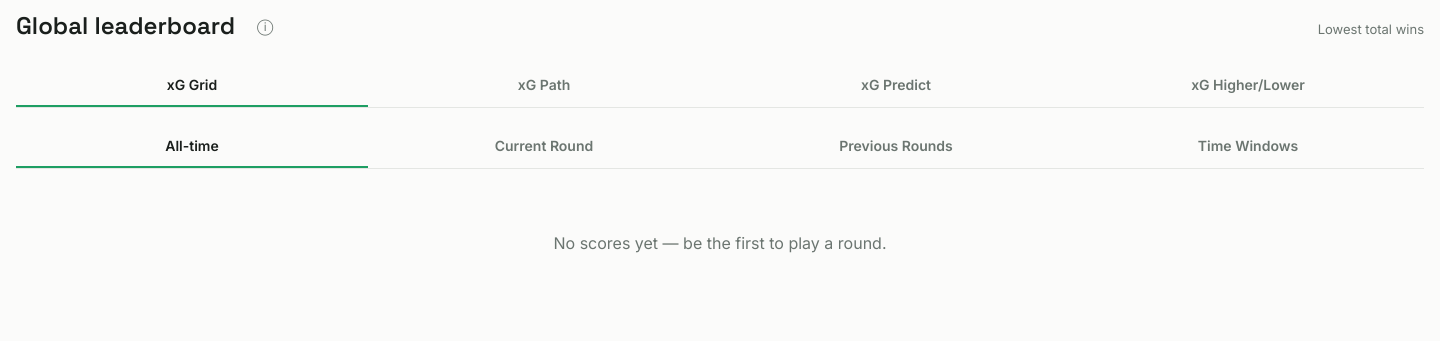
Test case: LiveLeaderboard › REQ407: "Load more" on the live scope fetches the next page via the previous nextCursor and appends below the existing rows
Expected: the text "No scores yet — be the first to play a round." is shown, [554,233,886,253]
Click the tab "Current Round". click: (544, 146)
box: [368,124,720,168]
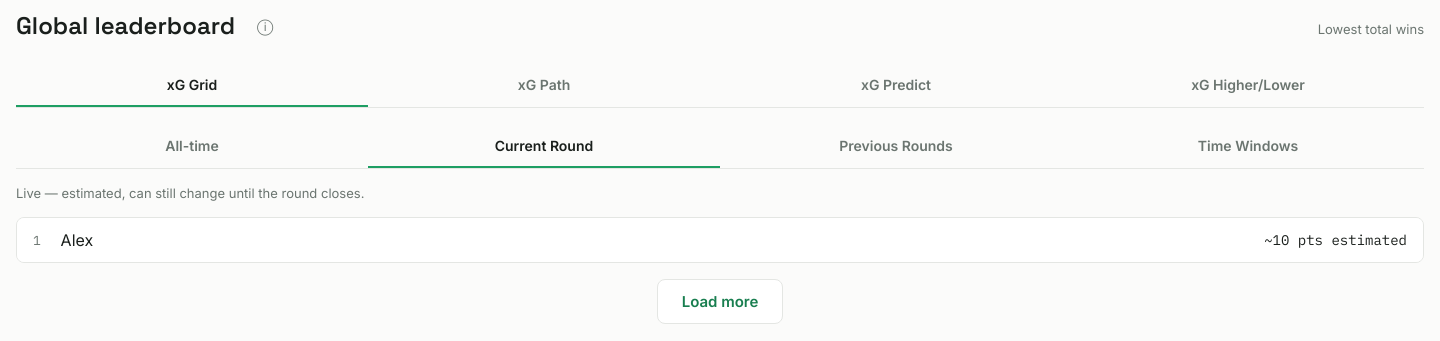
Result: the text "Alex" is shown at [61,230,93,250]
Click the button "Load more". click: (720, 302)
box: [657,279,783,324]
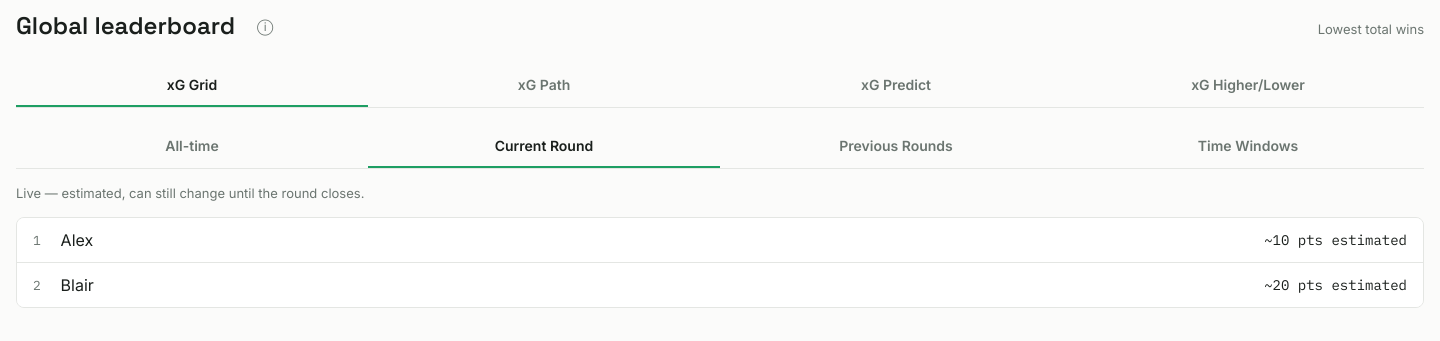
Result: the list item "1 Alex ~10 pts estimated" is shown at [17,218,1423,263]
Result: the text "Blair" is shown at [61,275,94,295]
Result: the number of list items is 2 at [17,218,1423,263]; [17,263,1423,307]
